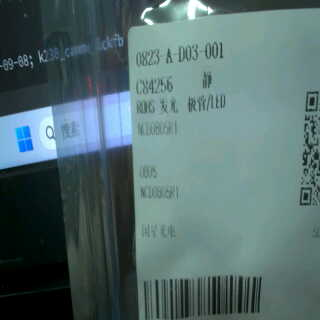LED: (156, 90, 231, 117)
